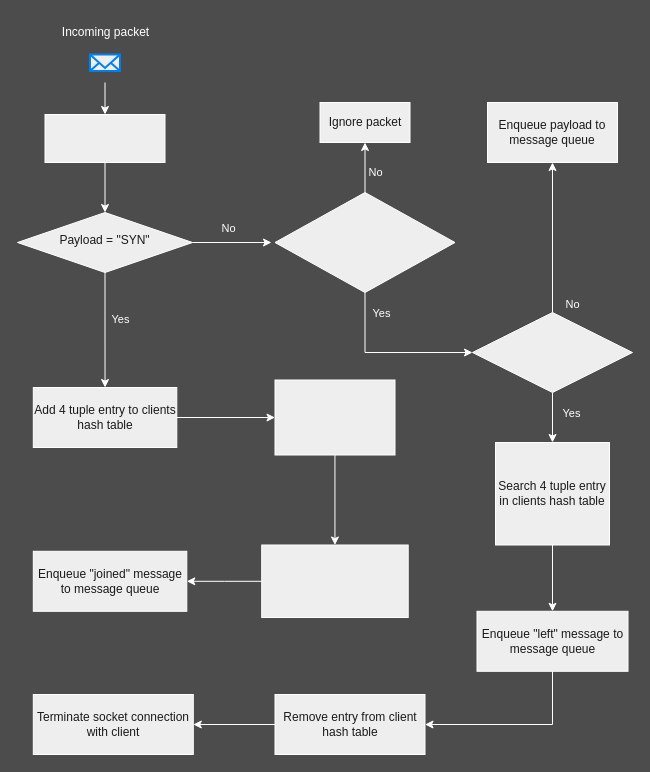
The diagram is 650 pixels wide and 772 high, and some of its shapes have lost their labels. The centre of each missing label's shape, as x and y in pixels:
4 tuple exists in clients hash table: [364,242]
Complete handshake: [334,417]
Create a new connection socket for client: [334,581]
Payload = "FIN": [552,352]
Welcoming socket: [104,138]
